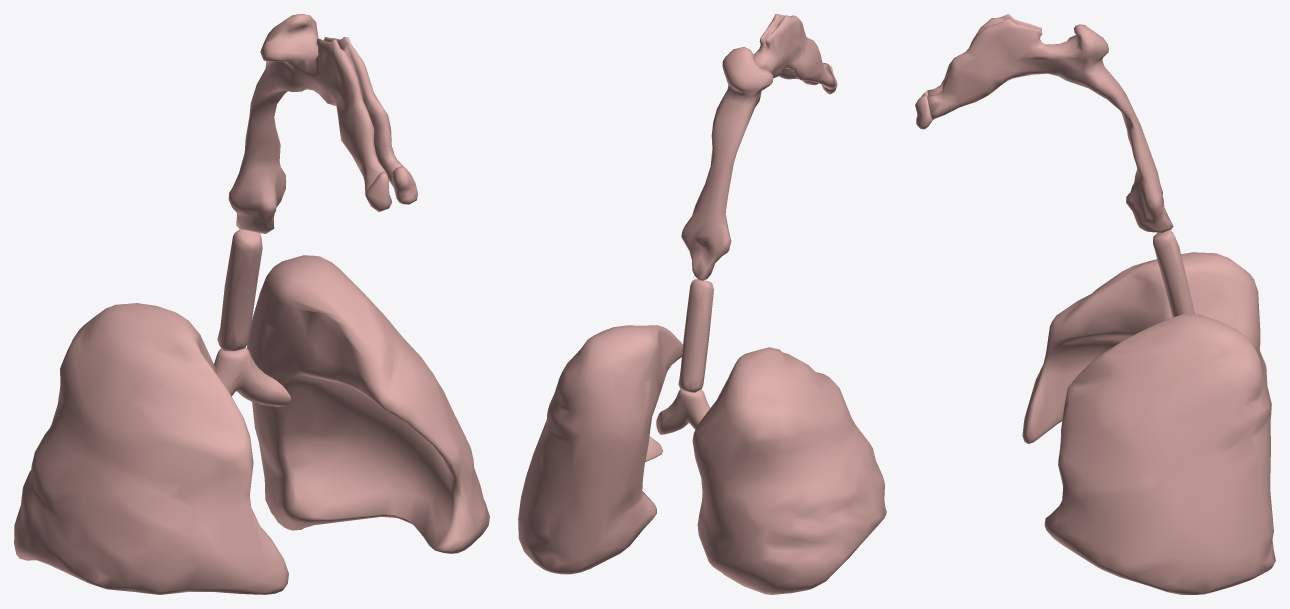
Rendered from pediatric_neonate_male.respiratory.LOD1.glb.
3 views of the same model, side by side, from view 1: azimuth 30°, elevation 25°; view 2: azimuth 150°, elevation 25°; view 3: azimuth 270°, elevation 25° (orthographic). The views are drawn at different scales.
Parts seen in each view (by area): view 1: PEDIATRIC.NEONATE.MALE.RESPIRATORY.LUNG.R, PEDIATRIC.NEONATE.MALE.RESPIRATORY.LUNG.L, PEDIATRIC.NEONATE.MALE.RESPIRATORY.ET2, PEDIATRIC.NEONATE.MALE.RESPIRATORY.TRACHEA, PEDIATRIC.NEONATE.MALE.RESPIRATORY.BB1, PEDIATRIC.NEONATE.MALE.RESPIRATORY.ET1; view 2: PEDIATRIC.NEONATE.MALE.RESPIRATORY.LUNG.R, PEDIATRIC.NEONATE.MALE.RESPIRATORY.LUNG.L, PEDIATRIC.NEONATE.MALE.RESPIRATORY.ET2, PEDIATRIC.NEONATE.MALE.RESPIRATORY.TRACHEA, PEDIATRIC.NEONATE.MALE.RESPIRATORY.BB1; view 3: PEDIATRIC.NEONATE.MALE.RESPIRATORY.LUNG.L, PEDIATRIC.NEONATE.MALE.RESPIRATORY.LUNG.R, PEDIATRIC.NEONATE.MALE.RESPIRATORY.ET2, PEDIATRIC.NEONATE.MALE.RESPIRATORY.TRACHEA.
Part boxes in pixels (x1=…): PEDIATRIC.NEONATE.MALE.RESPIRATORY.LUNG.R: x1=14, y1=303, x2=288, y2=594; PEDIATRIC.NEONATE.MALE.RESPIRATORY.LUNG.L: x1=247, y1=255, x2=489, y2=553; PEDIATRIC.NEONATE.MALE.RESPIRATORY.ET2: x1=228, y1=14, x2=407, y2=233; PEDIATRIC.NEONATE.MALE.RESPIRATORY.TRACHEA: x1=217, y1=229, x2=262, y2=351; PEDIATRIC.NEONATE.MALE.RESPIRATORY.BB1: x1=214, y1=347, x2=290, y2=406; PEDIATRIC.NEONATE.MALE.RESPIRATORY.ET1: x1=365, y1=166, x2=417, y2=211; PEDIATRIC.NEONATE.MALE.RESPIRATORY.LUNG.R: x1=692, y1=347, x2=886, y2=594; PEDIATRIC.NEONATE.MALE.RESPIRATORY.LUNG.L: x1=518, y1=325, x2=682, y2=574; PEDIATRIC.NEONATE.MALE.RESPIRATORY.ET2: x1=681, y1=14, x2=835, y2=280; PEDIATRIC.NEONATE.MALE.RESPIRATORY.TRACHEA: x1=678, y1=279, x2=713, y2=392; PEDIATRIC.NEONATE.MALE.RESPIRATORY.BB1: x1=656, y1=389, x2=710, y2=434; PEDIATRIC.NEONATE.MALE.RESPIRATORY.LUNG.L: x1=1044, y1=313, x2=1275, y2=594; PEDIATRIC.NEONATE.MALE.RESPIRATORY.LUNG.R: x1=1022, y1=252, x2=1271, y2=443; PEDIATRIC.NEONATE.MALE.RESPIRATORY.ET2: x1=927, y1=14, x2=1173, y2=232; PEDIATRIC.NEONATE.MALE.RESPIRATORY.TRACHEA: x1=1153, y1=230, x2=1194, y2=317.
Bounding box in the file's own units: 0.0956 × 0.1335 × 0.0874.
